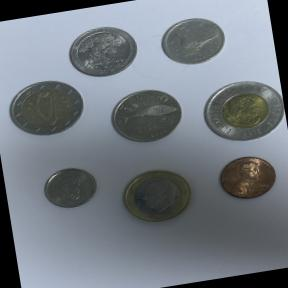coin: (190, 67, 288, 154), (114, 158, 207, 233), (101, 78, 190, 154), (3, 74, 90, 144), (60, 19, 144, 84), (208, 146, 284, 208), (36, 158, 104, 216)
